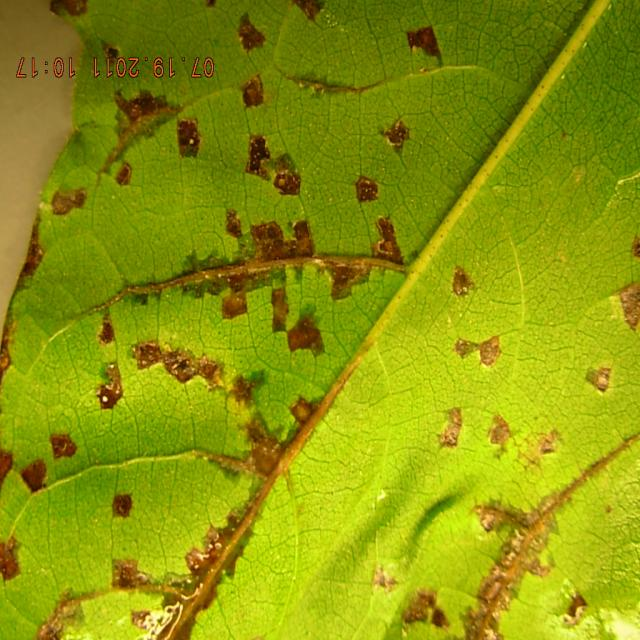Bacterial Blight: (24, 66, 482, 586)
